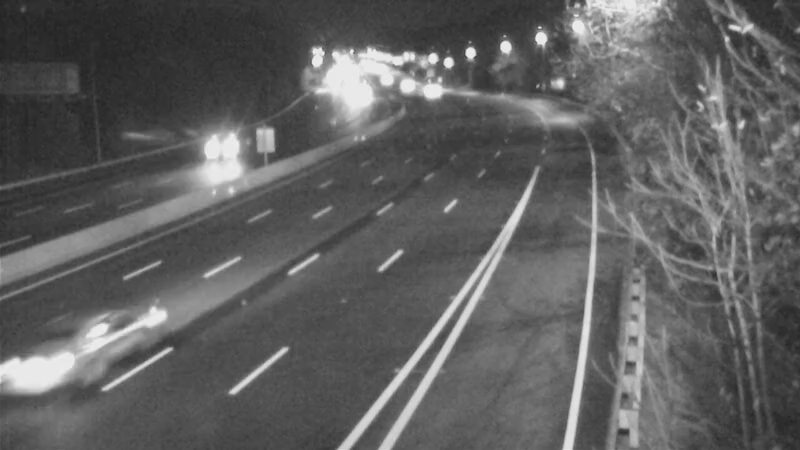vehicle: (1, 302, 104, 412), (202, 112, 252, 162)
